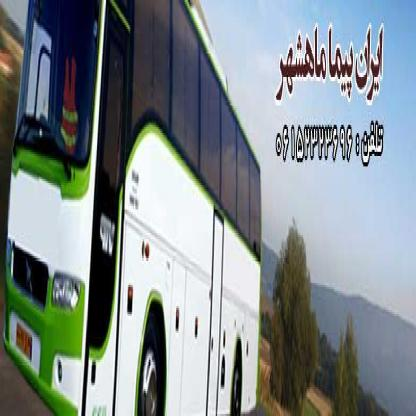Bus: (1, 0, 266, 416)
